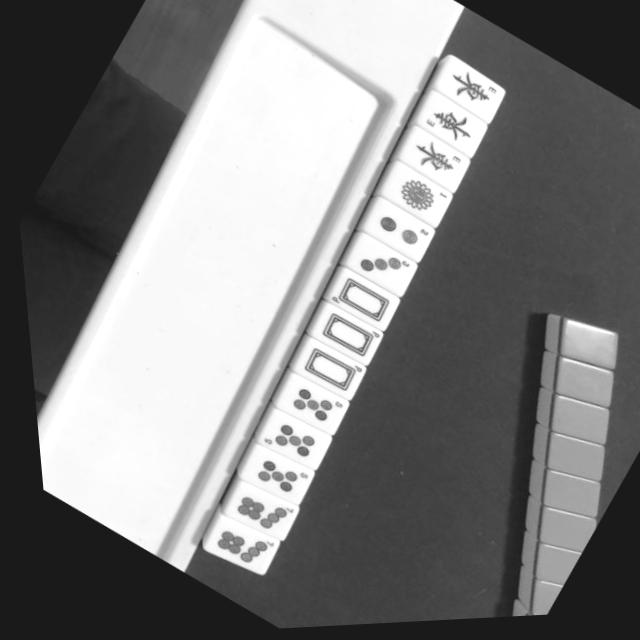hdw: (320, 269, 395, 335), (287, 339, 359, 403), (308, 306, 380, 368)
hwe: (416, 99, 485, 161), (434, 62, 503, 122), (401, 134, 467, 192)
sd1: (382, 167, 451, 229)
sd2: (364, 205, 430, 263)
sd3: (342, 237, 414, 301)
sd5: (270, 375, 341, 439), (240, 449, 306, 507), (251, 414, 315, 470)
sd7: (198, 514, 270, 578), (219, 482, 290, 545)
